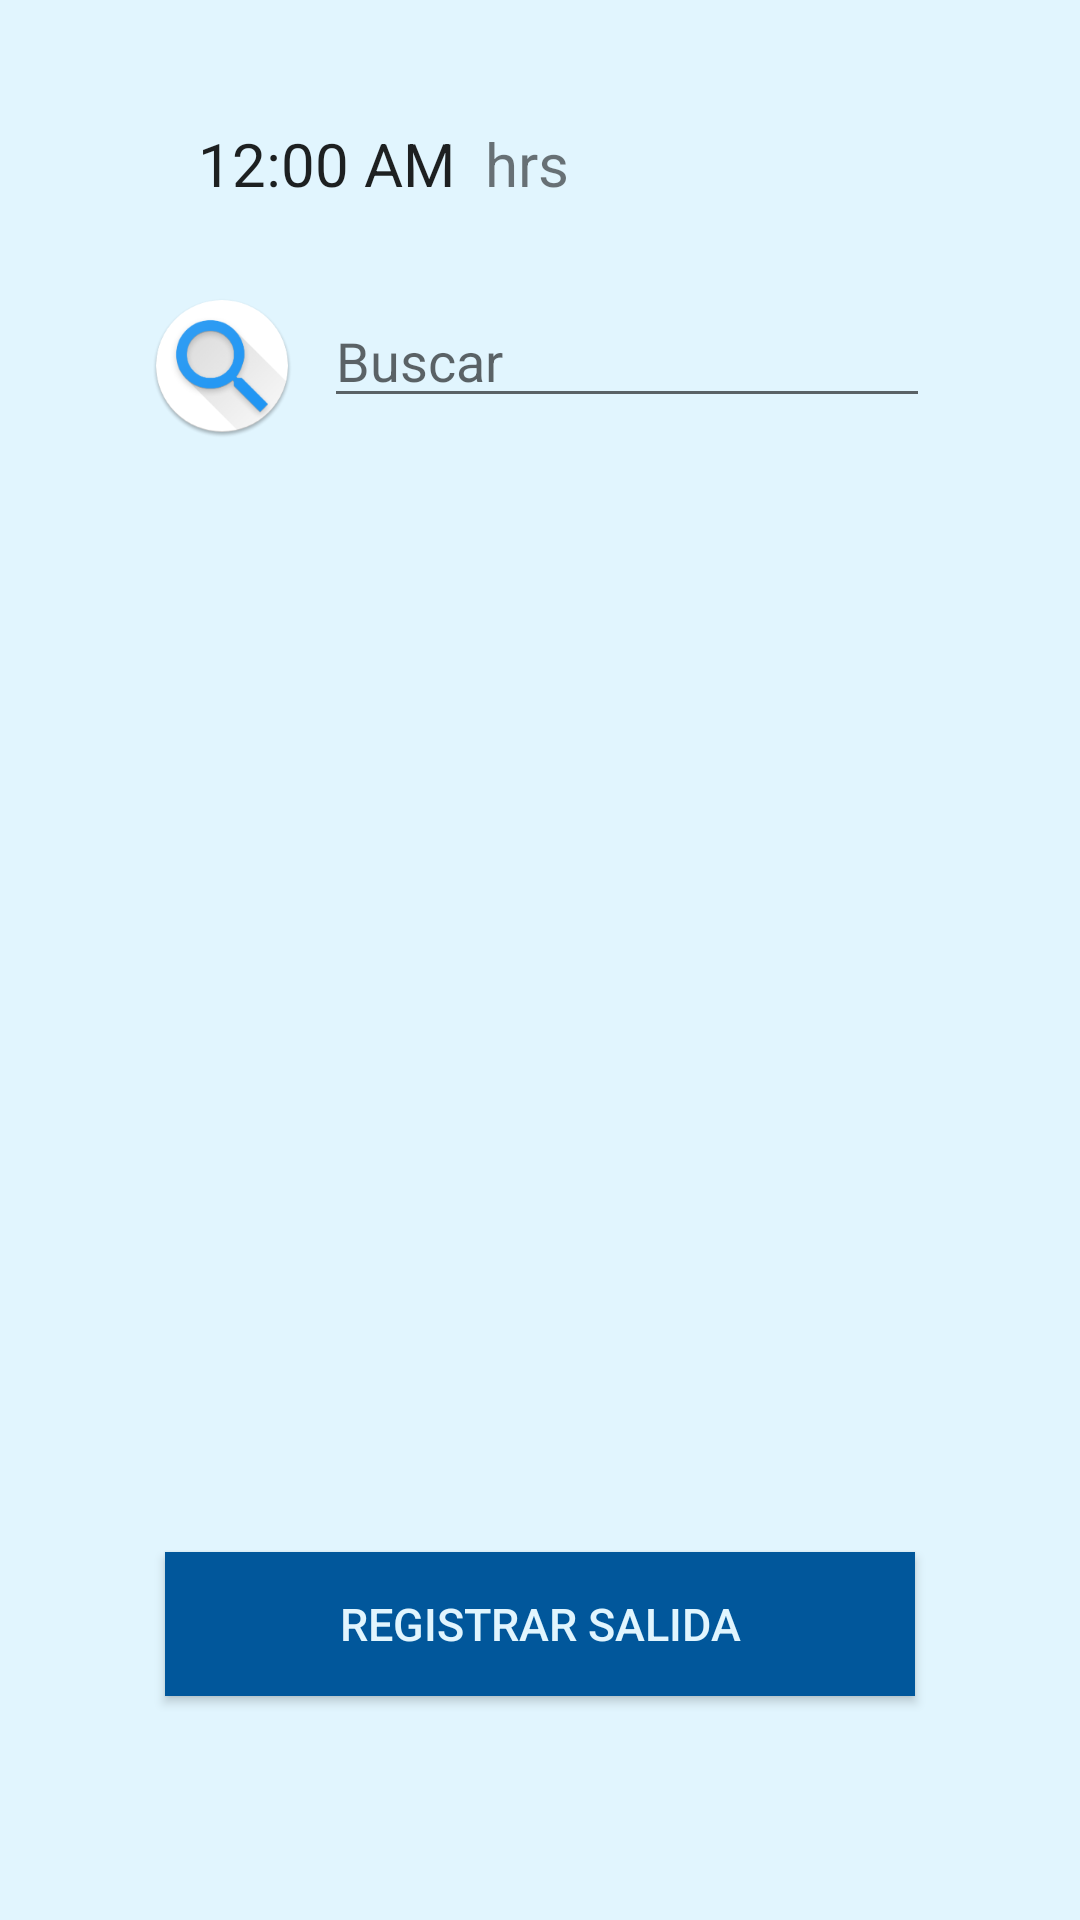

Icons on this 1080*1920 Android screen, each with its box as (x1, y1, x2, y2):
find: (155, 300, 289, 435)
